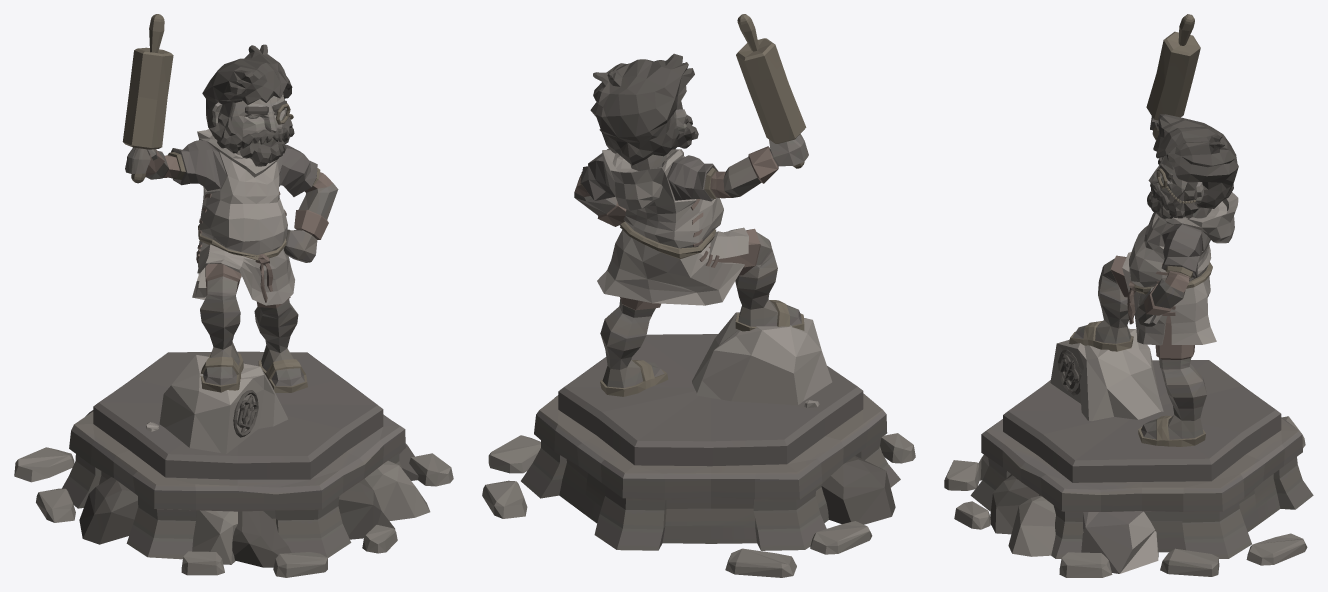
The model's file is tempStoneHero.fbx.
The picture shows the model from 3 angles, left to right: view 1: azimuth 30°, elevation 25°; view 2: azimuth 150°, elevation 25°; view 3: azimuth 270°, elevation 25°; orthographic projection. The views are drawn at different scales.
Parts seen in each view (by area): view 1: tempStoneHero; view 2: tempStoneHero; view 3: tempStoneHero.
Part boxes in pixels (box(x1,y1,x2,y2)): tempStoneHero: box(14, 14, 453, 577); tempStoneHero: box(482, 14, 915, 577); tempStoneHero: box(944, 14, 1313, 577).
Size of the model in its own units: 2.61 by 3.43 by 2.51.
